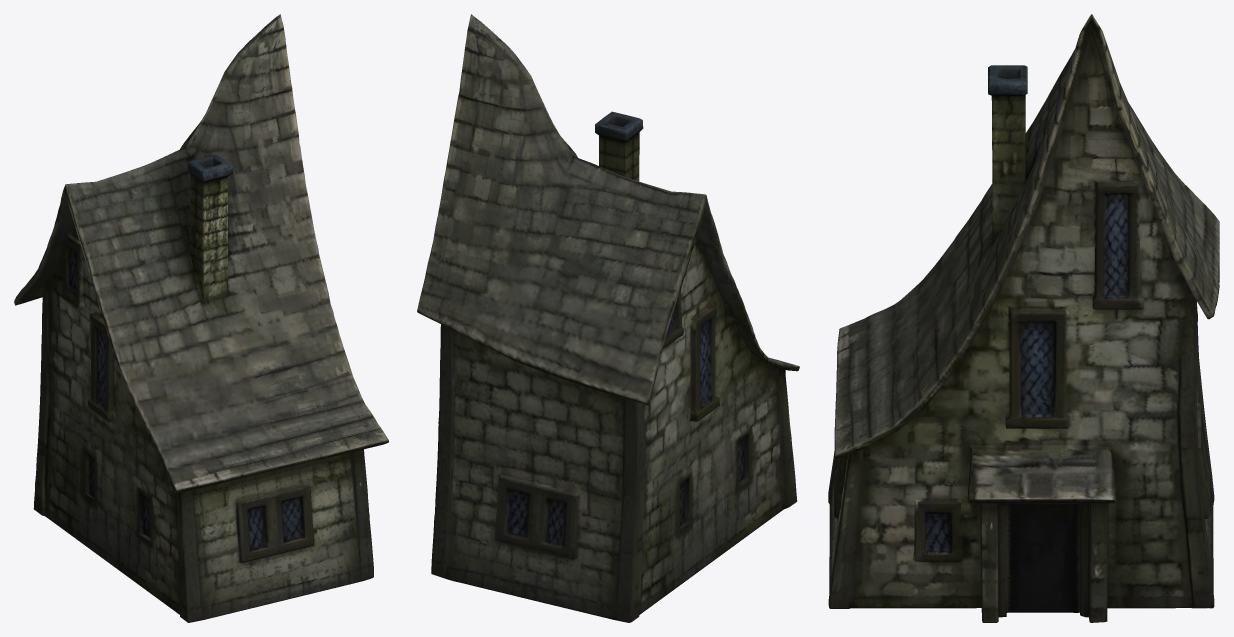
Rendered from Cabin.glb.
The picture shows the model from 3 angles, left to right: view 1: azimuth 30°, elevation 25°; view 2: azimuth 150°, elevation 25°; view 3: azimuth 270°, elevation 25°; orthographic projection. The views are drawn at different scales.
Visible parts, largest first — view 1: tripo_node_dfe62cf0-7c79-4ffa-81a9-1172b2ba4fe0; view 2: tripo_node_dfe62cf0-7c79-4ffa-81a9-1172b2ba4fe0; view 3: tripo_node_dfe62cf0-7c79-4ffa-81a9-1172b2ba4fe0.
Part boxes in pixels (left/top/right/bottom): tripo_node_dfe62cf0-7c79-4ffa-81a9-1172b2ba4fe0: left=14, top=14, right=388, bottom=622; tripo_node_dfe62cf0-7c79-4ffa-81a9-1172b2ba4fe0: left=417, top=14, right=799, bottom=622; tripo_node_dfe62cf0-7c79-4ffa-81a9-1172b2ba4fe0: left=828, top=14, right=1219, bottom=622.
Size of the model in its own units: 0.5143 by 1 by 0.5866.
Materials: 1 (1 with a texture image).
